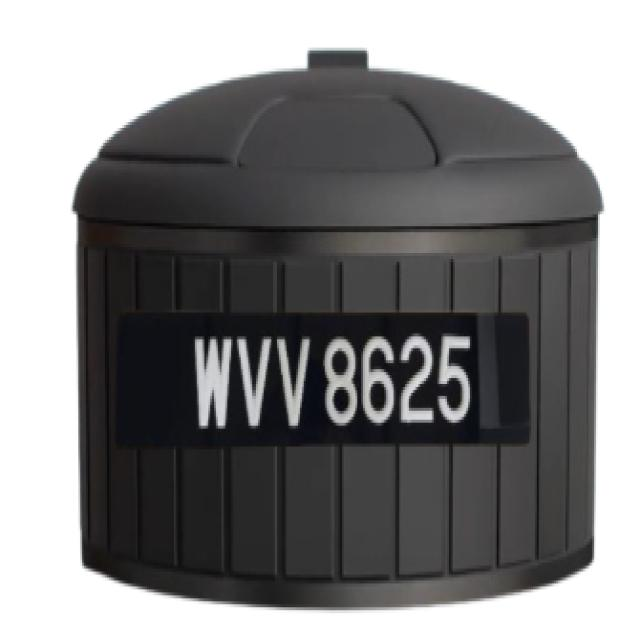bin_plate: (116, 312, 531, 447)
